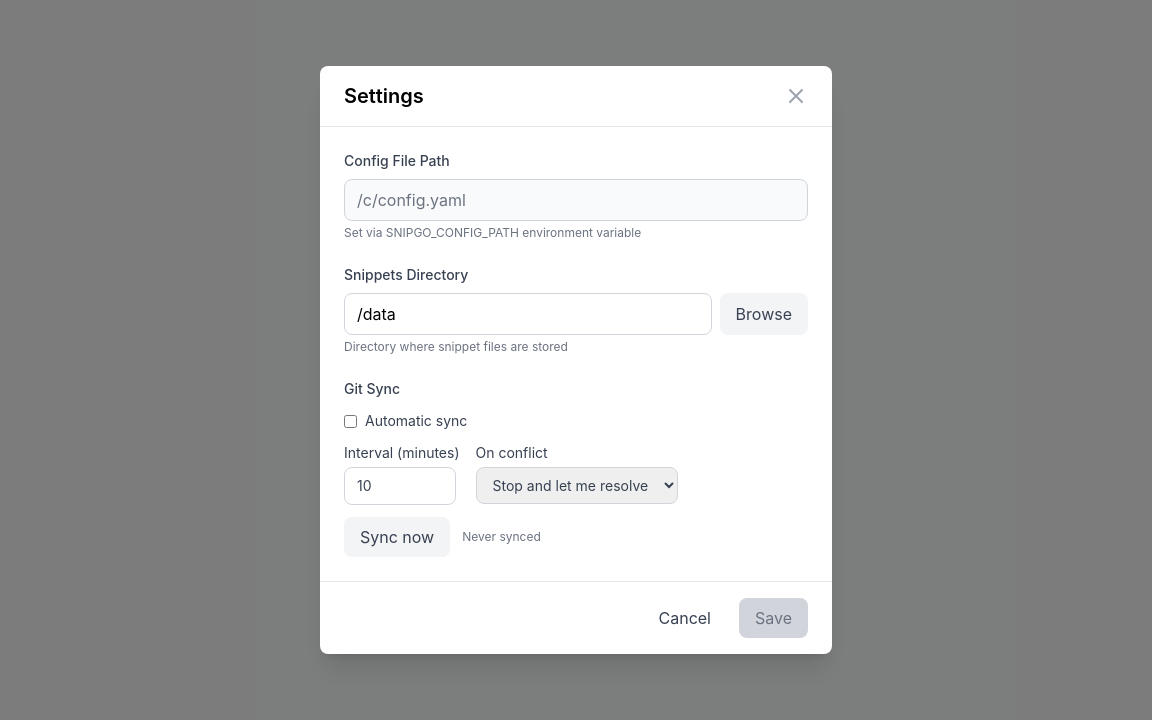
Test: SettingsPage sync › shows an error and re-enables sync now when sync now rejects
Click the button "Sync now". click: [397, 537]
box: [344, 517, 450, 557]
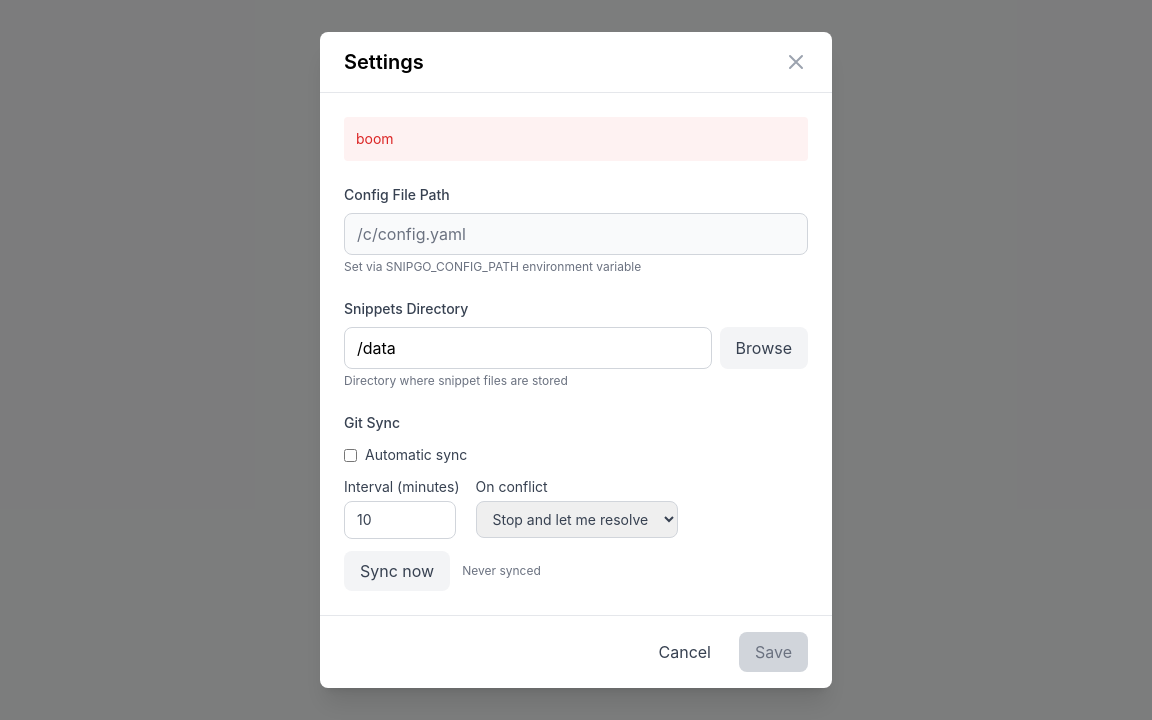
Expected: the button "Sync now" is enabled, [344, 551, 450, 591]
Expected: the text "boom" is shown, [344, 117, 808, 161]
